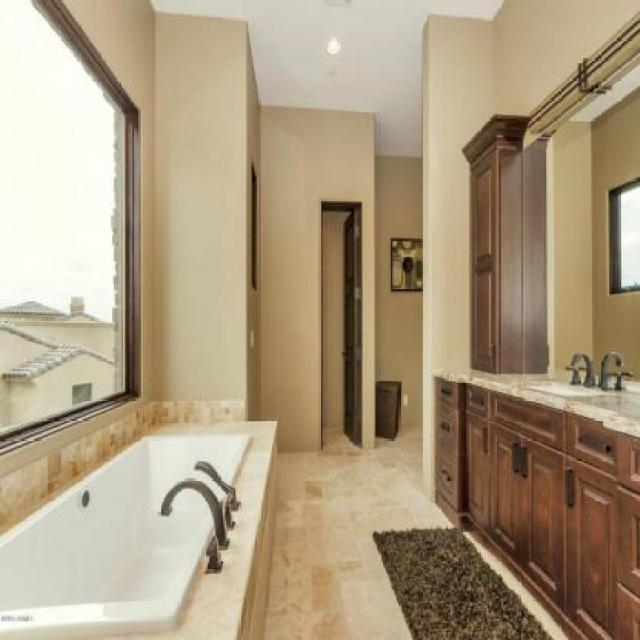Floor: (264, 427, 454, 639), (461, 530, 570, 639)
